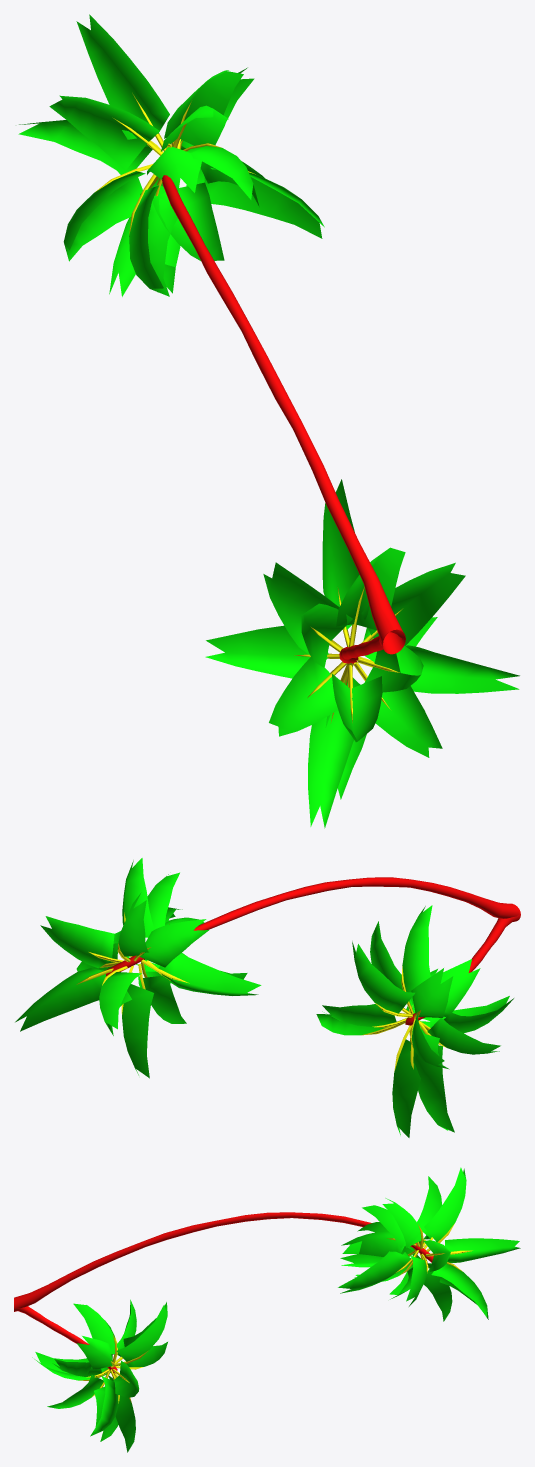
File: M_P10_Tree_16.FBX
3 views of the same model, one above another, from view 1: azimuth 30°, elevation 25°; view 2: azimuth 150°, elevation 25°; view 3: azimuth 270°, elevation 25° (orthographic). The views are drawn at different scales.
Visible parts, largest first — view 1: M_P10_Tree_16_LOD0; view 2: M_P10_Tree_16_LOD0; view 3: M_P10_Tree_16_LOD0.
Part boxes in pixels (bbox=[...]): M_P10_Tree_16_LOD0: bbox=[18, 14, 519, 828]; M_P10_Tree_16_LOD0: bbox=[15, 858, 520, 1137]; M_P10_Tree_16_LOD0: bbox=[14, 1167, 520, 1452].
Size of the model in its own units: 323 by 831 by 543.
